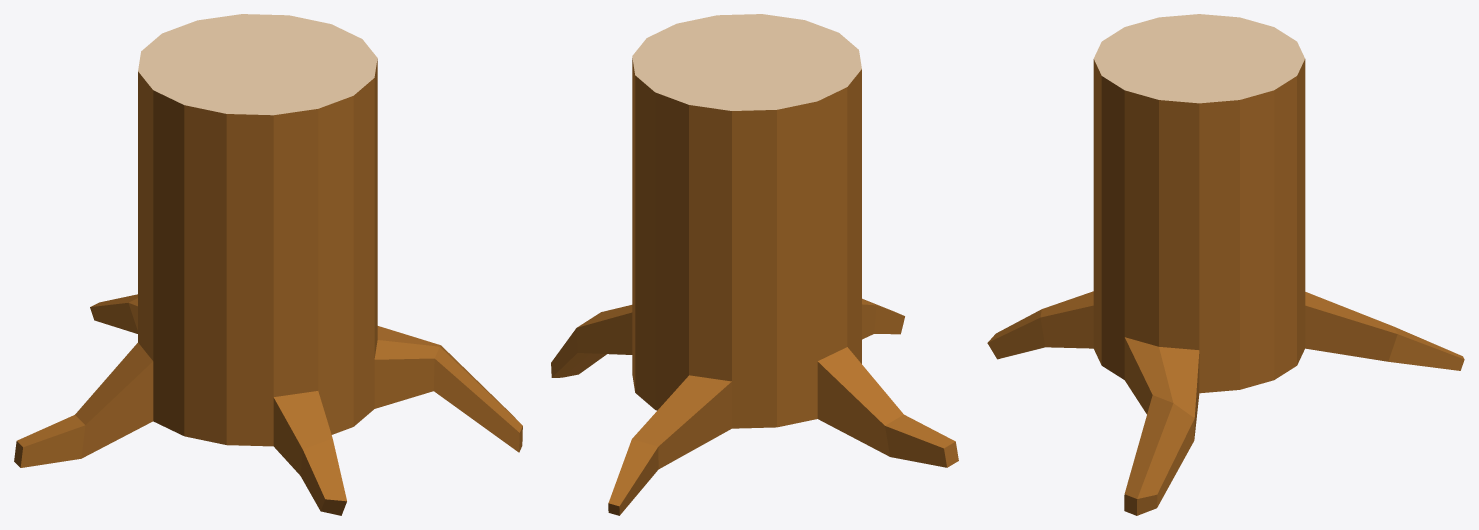
Rendered from Stump.fbx.
The picture shows the model from 3 angles, left to right: view 1: azimuth 30°, elevation 25°; view 2: azimuth 150°, elevation 25°; view 3: azimuth 270°, elevation 25°; orthographic projection. The views are drawn at different scales.
Visible parts, largest first — view 1: Stump; view 2: Stump; view 3: Stump.
Boxes of the visible parts, x1,y1,x2,y2 form: Stump: (14,14,522,515); Stump: (551,14,958,515); Stump: (987,14,1464,515).
Bounding box in the file's own units: 197 × 169 × 203.
